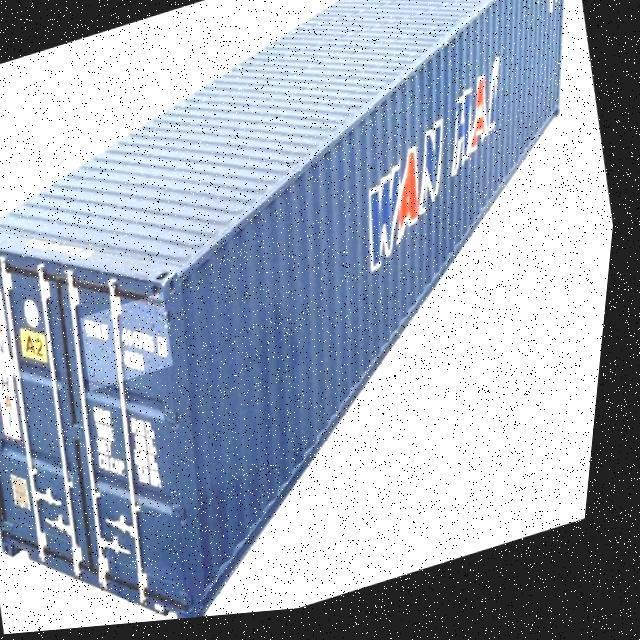container_number_h: (81, 294, 186, 395)
